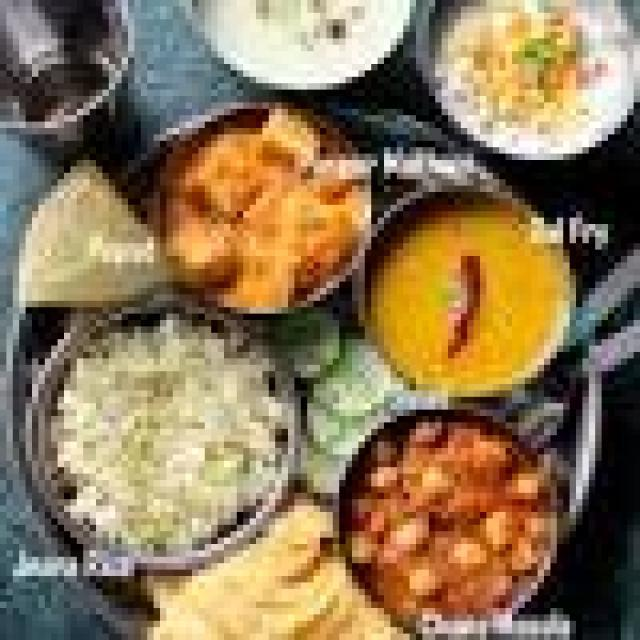dal: (364, 190, 574, 392), (194, 3, 415, 90)
papad: (39, 306, 303, 553)
roti: (141, 107, 368, 312), (342, 415, 555, 628)
sweet: (427, 0, 634, 160)
veg-fry: (417, 0, 639, 161)
